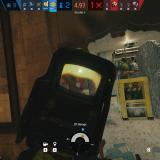Character: (77, 81, 85, 95)
